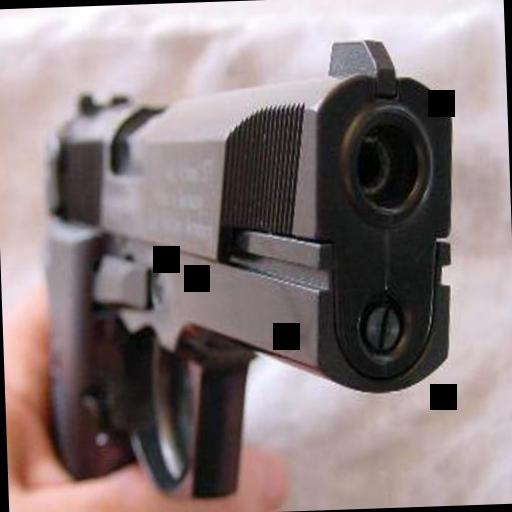Handgun: (34, 30, 470, 503)
